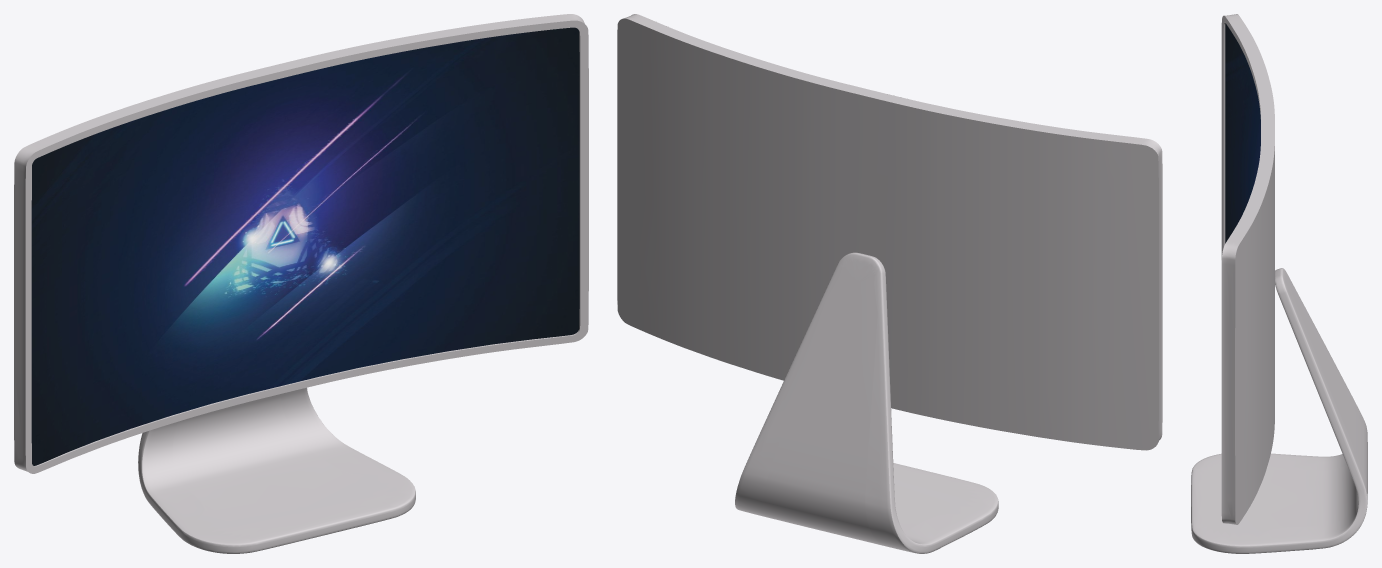
The model's file is monitorlow-poly.glb.
3 views of the same model, side by side, from view 1: azimuth 30°, elevation 25°; view 2: azimuth 150°, elevation 25°; view 3: azimuth 270°, elevation 25° (orthographic). The views are drawn at different scales.
Parts seen in each view (by area): view 1: Monitor_Material.003_0, Monitor_Material_0; view 2: Monitor_Material_0; view 3: Monitor_Material_0, Monitor_Material.003_0.
Part boxes in pixels (x1,y1,x2,y2): Monitor_Material.003_0: [31, 27, 579, 465]; Monitor_Material_0: [14, 14, 588, 553]; Monitor_Material_0: [617, 14, 1162, 553]; Monitor_Material_0: [1191, 14, 1367, 553]; Monitor_Material.003_0: [1225, 23, 1260, 243].
Size of the model in its own units: 2.78 by 2.03 by 0.861.
2 materials, 1 textured.
